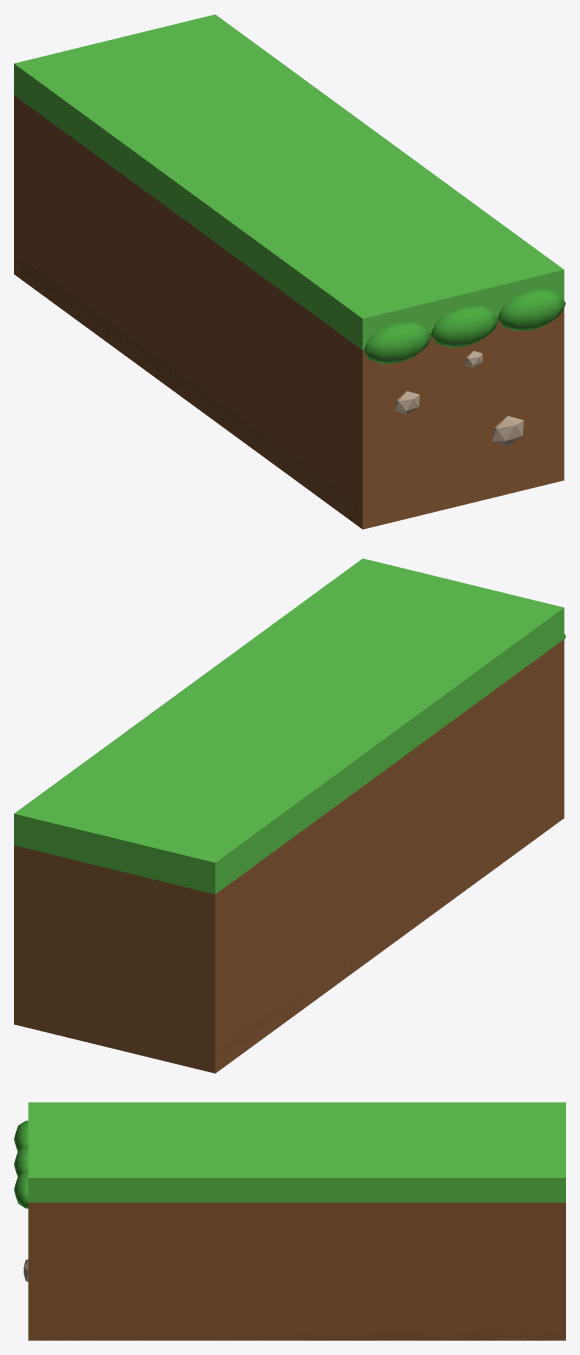
Rendered from ground_tile.glb.
3 views of the same model, one above another, from view 1: azimuth 30°, elevation 25°; view 2: azimuth 150°, elevation 25°; view 3: azimuth 270°, elevation 25° (orthographic). The views are drawn at different scales.
Parts seen in each view (by area): view 1: ground_tile; view 2: ground_tile; view 3: ground_tile.
Part boxes in pixels (box(x1,y1,x2,y2)): ground_tile: box(14, 14, 565, 529); ground_tile: box(14, 558, 565, 1073); ground_tile: box(14, 1102, 565, 1340).
Bounding box in the file's own units: 1 × 1 × 3.08.
